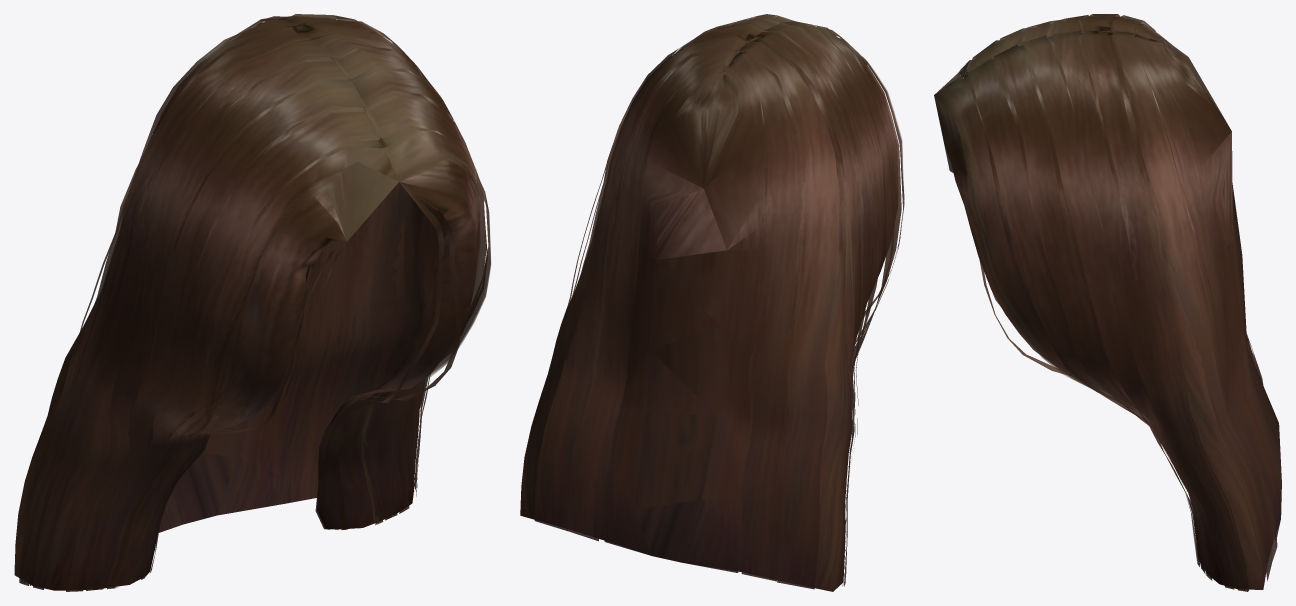
File: medium-african.glb
3 renders of one model, left to right at view 1: azimuth 30°, elevation 25°; view 2: azimuth 150°, elevation 25°; view 3: azimuth 270°, elevation 25°, orthographic. The views are drawn at different scales.
Parts seen in each view (by area): view 1: hair_medium; view 2: hair_medium; view 3: hair_medium.
Boxes of the visible parts, x1,y1,x2,y2 form: hair_medium: [14, 14, 490, 591]; hair_medium: [520, 14, 904, 591]; hair_medium: [934, 14, 1281, 591].
Bounding box in the file's own units: 0.2919 × 0.4033 × 0.2634.
Materials: 1 (1 with a texture image).
